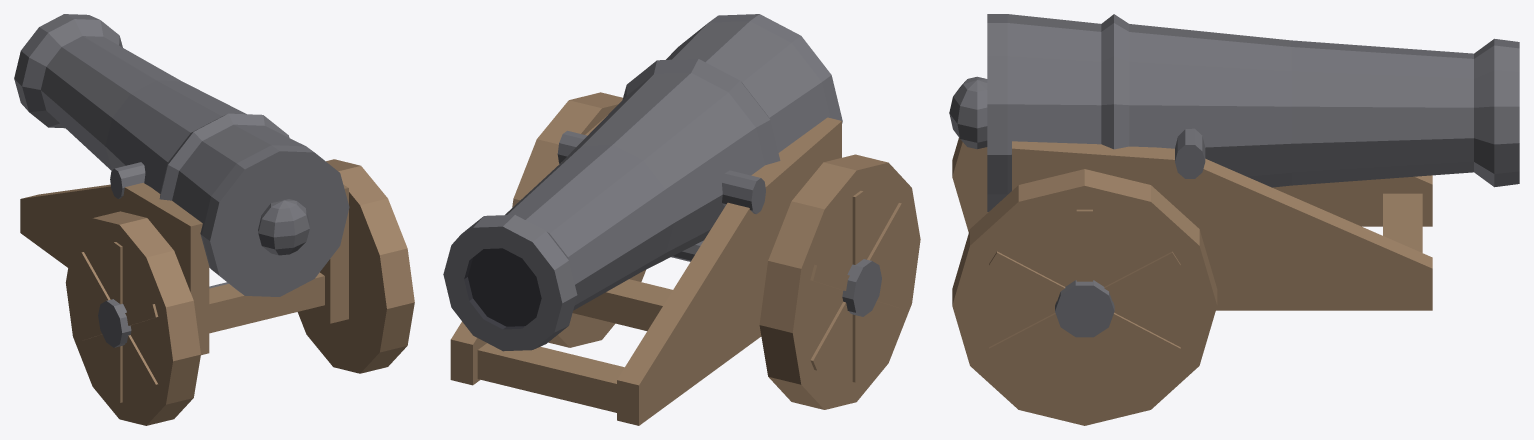
Rendered from Cannon.fbx.
3 renders of one model, left to right at view 1: azimuth 30°, elevation 25°; view 2: azimuth 150°, elevation 25°; view 3: azimuth 270°, elevation 25°, orthographic. The views are drawn at different scales.
Visible parts, largest first — view 1: Cannon_HubL, Cannon_Cascabel; view 2: Cannon_HubL, Cannon_Cascabel; view 3: Cannon_HubL, Cannon_Cascabel.
Boxes of the visible parts, x1,y1,x2,y2 form: Cannon_HubL: (20, 159, 414, 425); Cannon_Cascabel: (14, 14, 349, 296); Cannon_HubL: (450, 92, 920, 425); Cannon_Cascabel: (443, 14, 842, 351); Cannon_HubL: (952, 138, 1432, 425); Cannon_Cascabel: (949, 14, 1519, 211).
Size of the model in its own units: 112 by 110 by 172.
